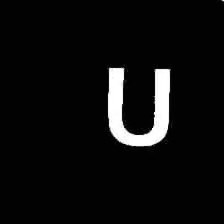LTR_U: (99, 55, 175, 154)
